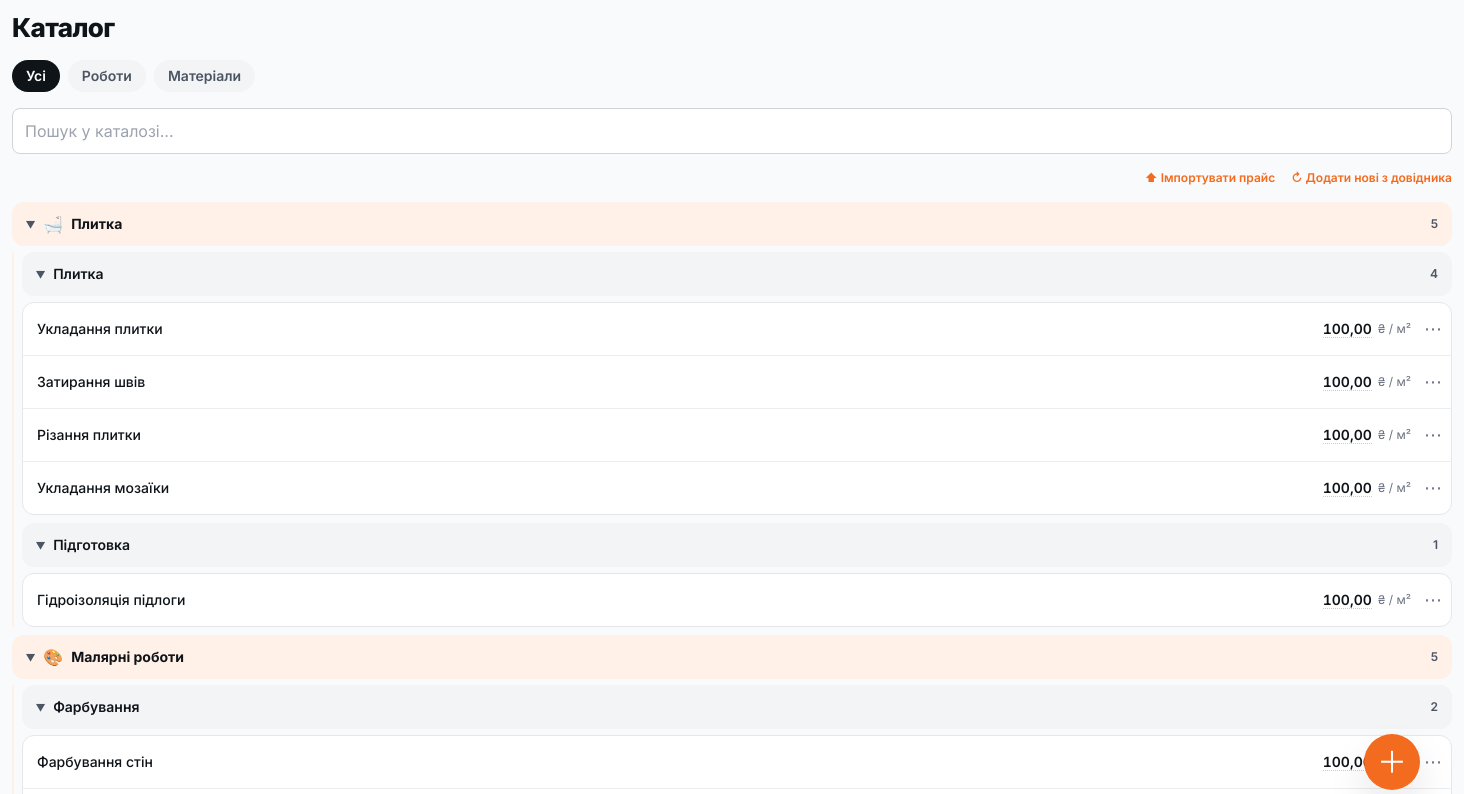
Test: CatalogPage — trade is a level, not a filter › shows both trades at once and folds one without hiding the other
Click the button with test id "catalog-trade" showing "▶ 🛁 Плитка 5": (97,224) left=12, top=202, right=1452, bottom=246
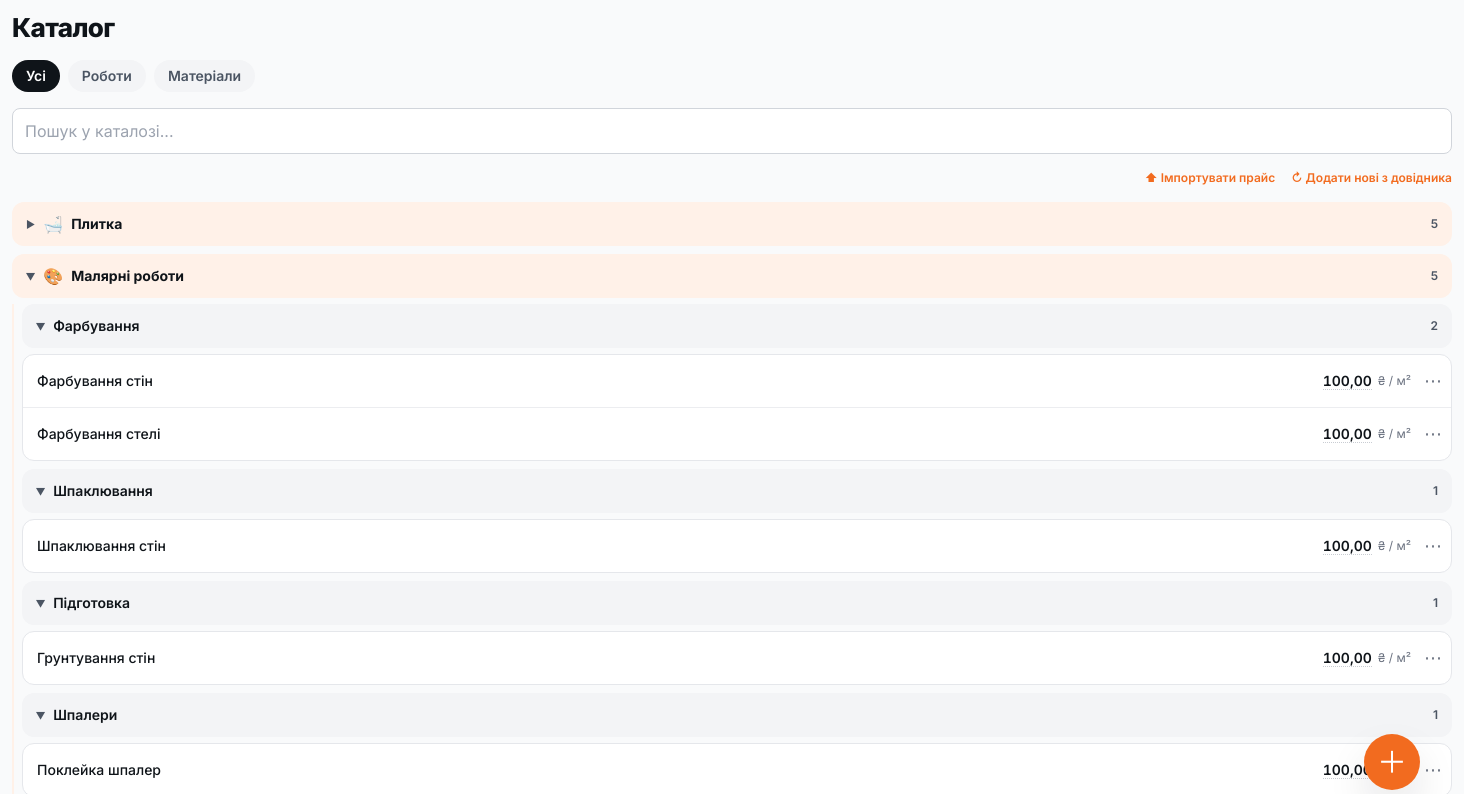
Expected: the button "Фарбування стін" is shown, left=37, top=372, right=153, bottom=389
Expected: the button "Укладання плитки" is gone
